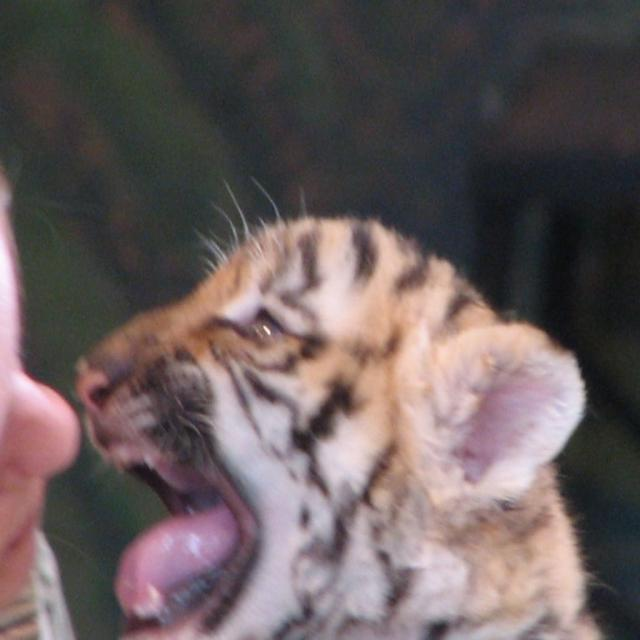Tiger: (72, 177, 618, 638)
